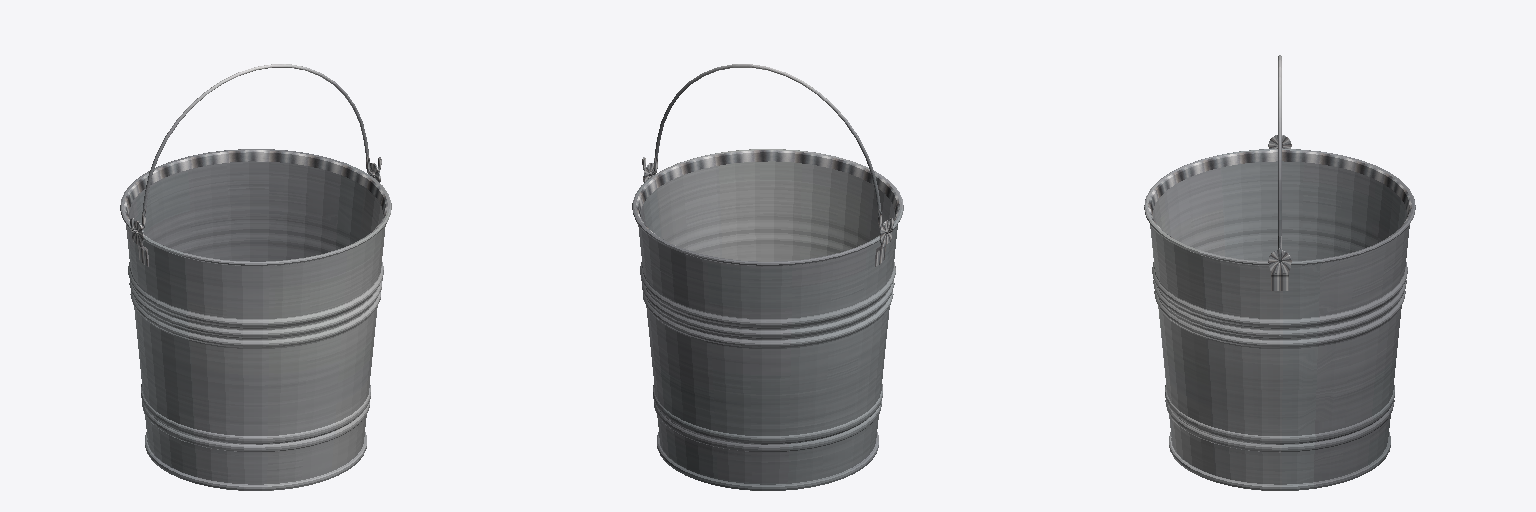
The picture shows the model from 3 angles: view 1: azimuth 30°, elevation 25°; view 2: azimuth 150°, elevation 25°; view 3: azimuth 270°, elevation 25°; orthographic projection.
Parts seen in each view (by area): view 1: bucket:polySurface1; view 2: bucket:polySurface1; view 3: bucket:polySurface1.
Boxes of the visible parts, x1=… form: bucket:polySurface1: x1=120, y1=64, x2=391, y2=490; bucket:polySurface1: x1=632, y1=64, x2=903, y2=490; bucket:polySurface1: x1=1144, y1=55, x2=1415, y2=490.
Bounding box in the file's own units: 352 × 507 × 330.
3 materials, 1 textured.